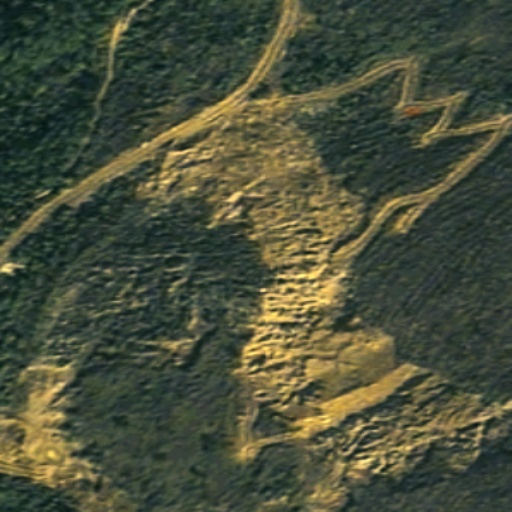landslide: (158, 110, 488, 474), (3, 355, 84, 488)
